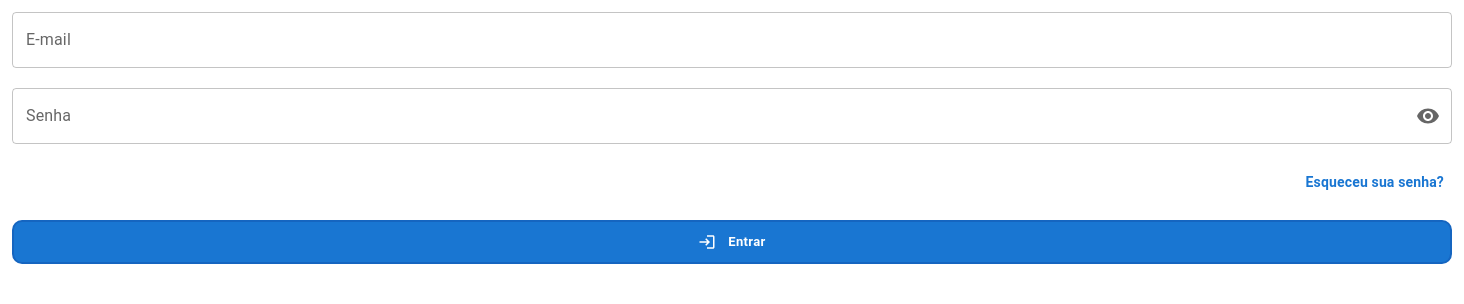
LoginForm component › shows the @ error while typing an email without it
Type "email-sem-arroba" into the field with placeholder "seu@email.com" at (732, 40), box [12,12,1452,68]
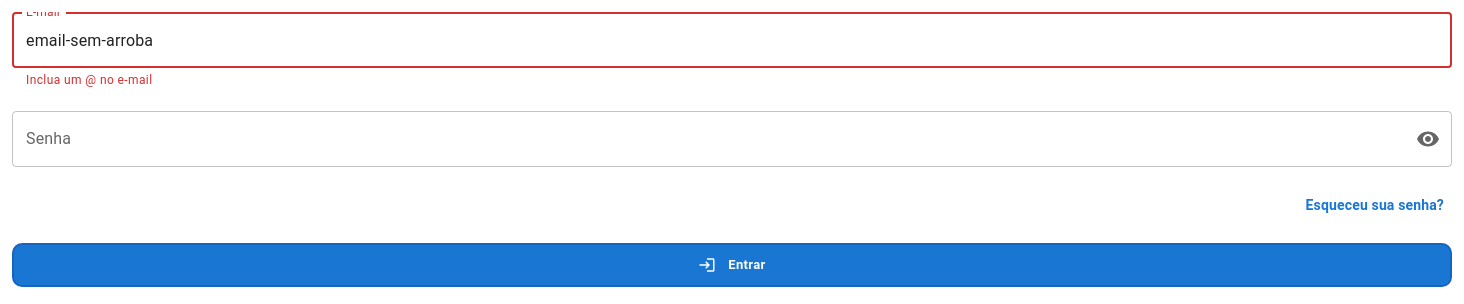
Now the text "Inclua um @ no e-mail" is shown, box [26,73,152,87]
